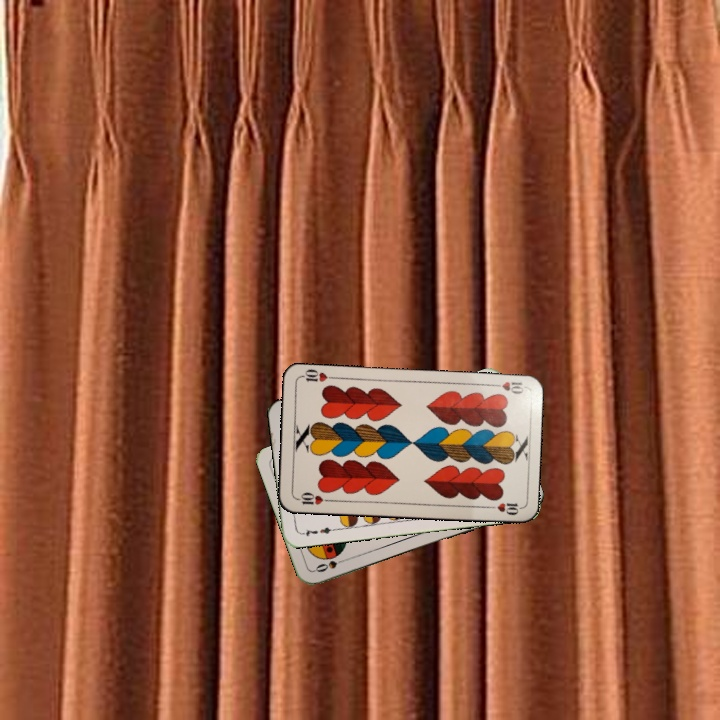E7: (297, 523, 337, 539)
H10: (487, 377, 526, 397), (293, 488, 333, 507)
SO: (311, 554, 350, 575)
